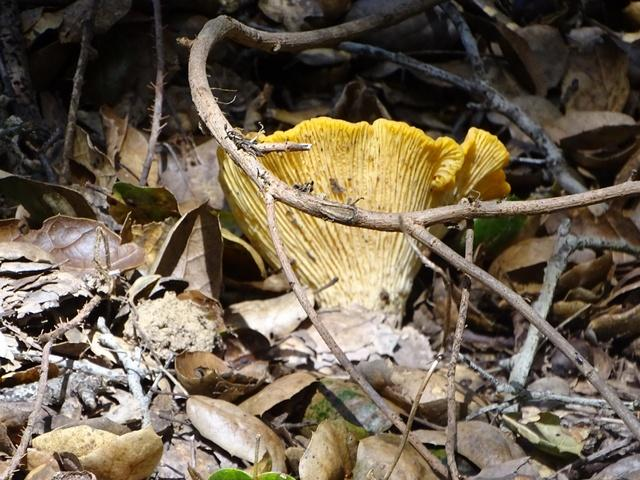edible_mushroom: (215, 113, 511, 330)
